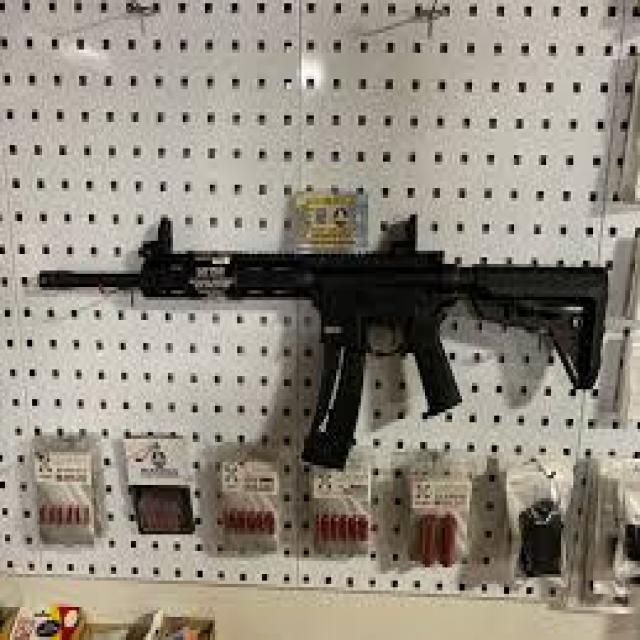m16: (25, 178, 622, 478)
